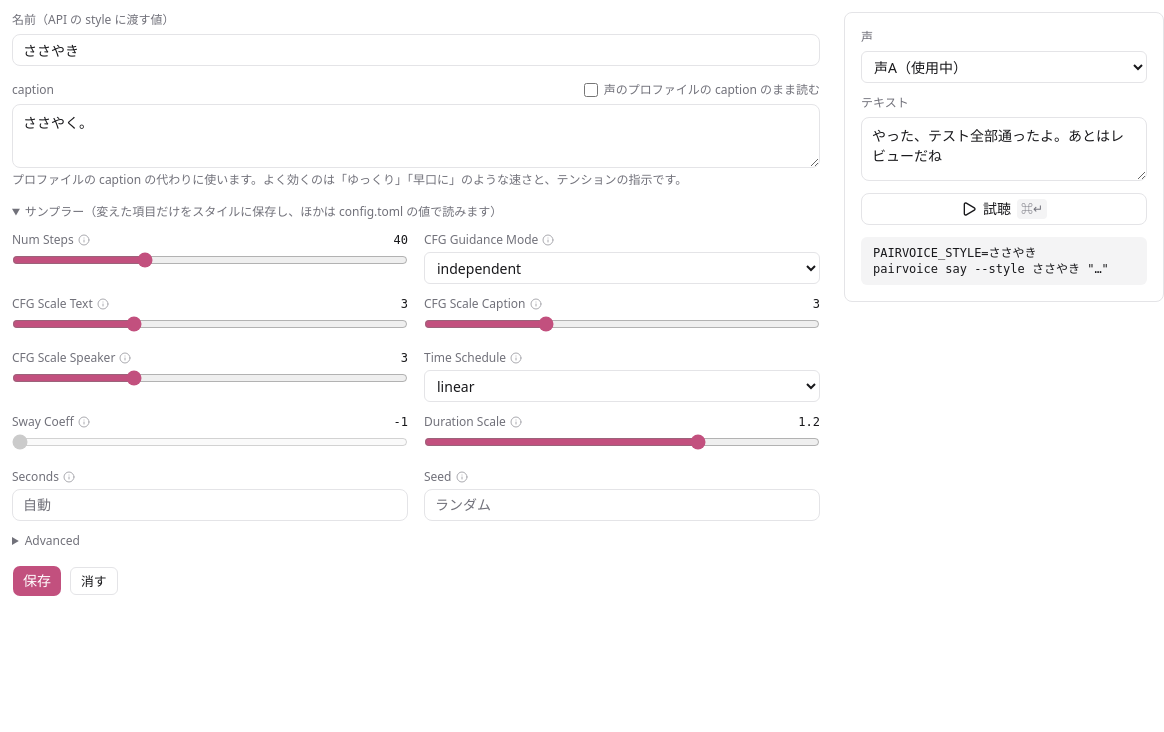
Scenario: ほかのスタイルと同じ名前では保存できない
Type "ゆっくり" into the field labelled "名前（API の style に渡す値）" at coordinates (416, 50), box [12, 34, 820, 66]
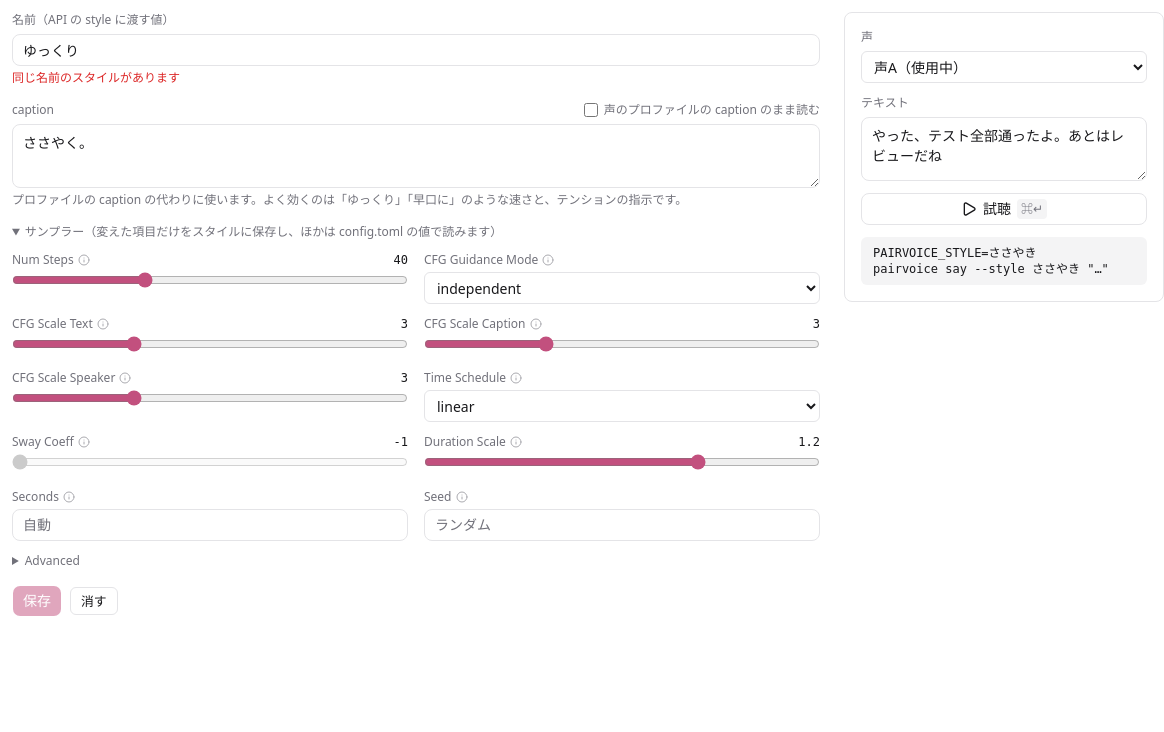
Now the text "同じ名前のスタイルがあります" is shown, box [12, 69, 180, 86]
Now the button "保存" is disabled, box [12, 585, 62, 617]
